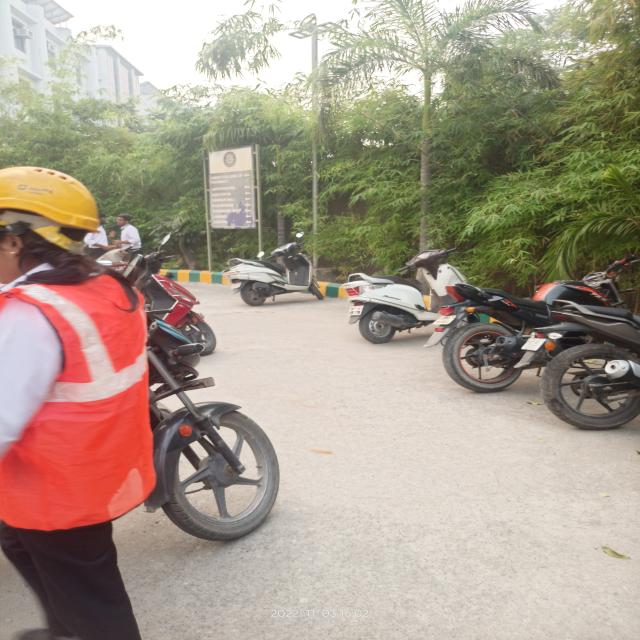safe: (0, 165, 161, 640)
unsafe: (112, 213, 143, 263)
